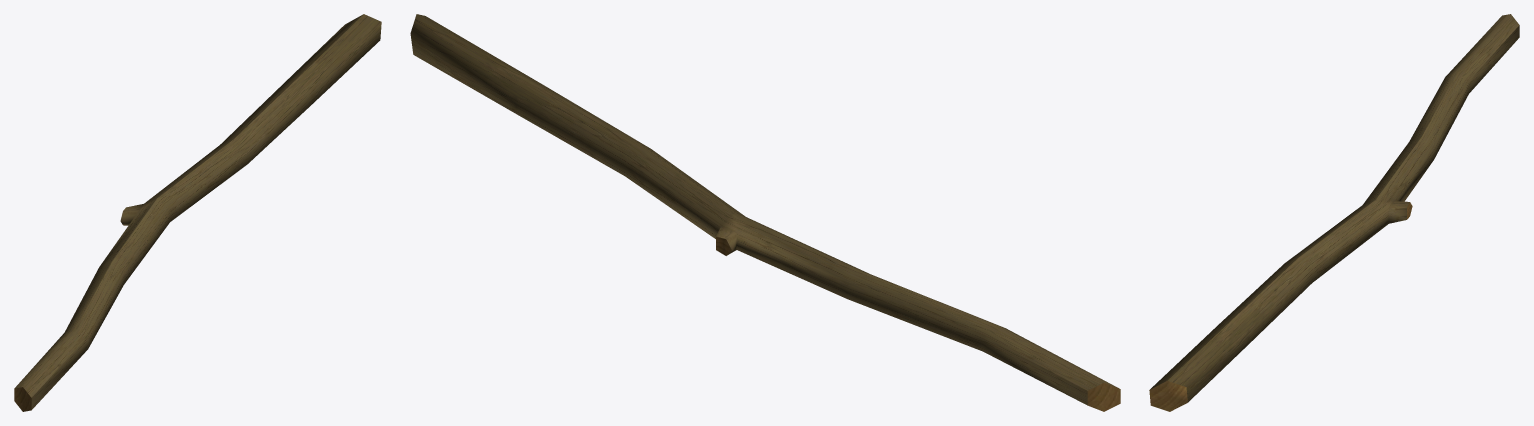
3 views of the same model, side by side, from view 1: azimuth 90°, elevation 25°; view 2: azimuth 150°, elevation 25°; view 3: azimuth 270°, elevation 25° (orthographic). The views are drawn at different scales.
Visible parts, largest first — view 1: Joint_0_Object_0, Joint_0_Object_1; view 2: Joint_0_Object_0, Joint_0_Object_1; view 3: Joint_0_Object_0, Joint_0_Object_1.
Part boxes in pixels (bbox=[...]): Joint_0_Object_0: bbox=[14, 14, 381, 409]; Joint_0_Object_1: bbox=[14, 387, 31, 411]; Joint_0_Object_0: bbox=[410, 14, 1118, 405]; Joint_0_Object_1: bbox=[716, 236, 1120, 411]; Joint_0_Object_0: bbox=[1150, 14, 1519, 402]; Joint_0_Object_1: bbox=[1149, 202, 1412, 411].
Bounding box in the file's own units: 1181 × 50 × 491.
2 materials, 2 textured.
